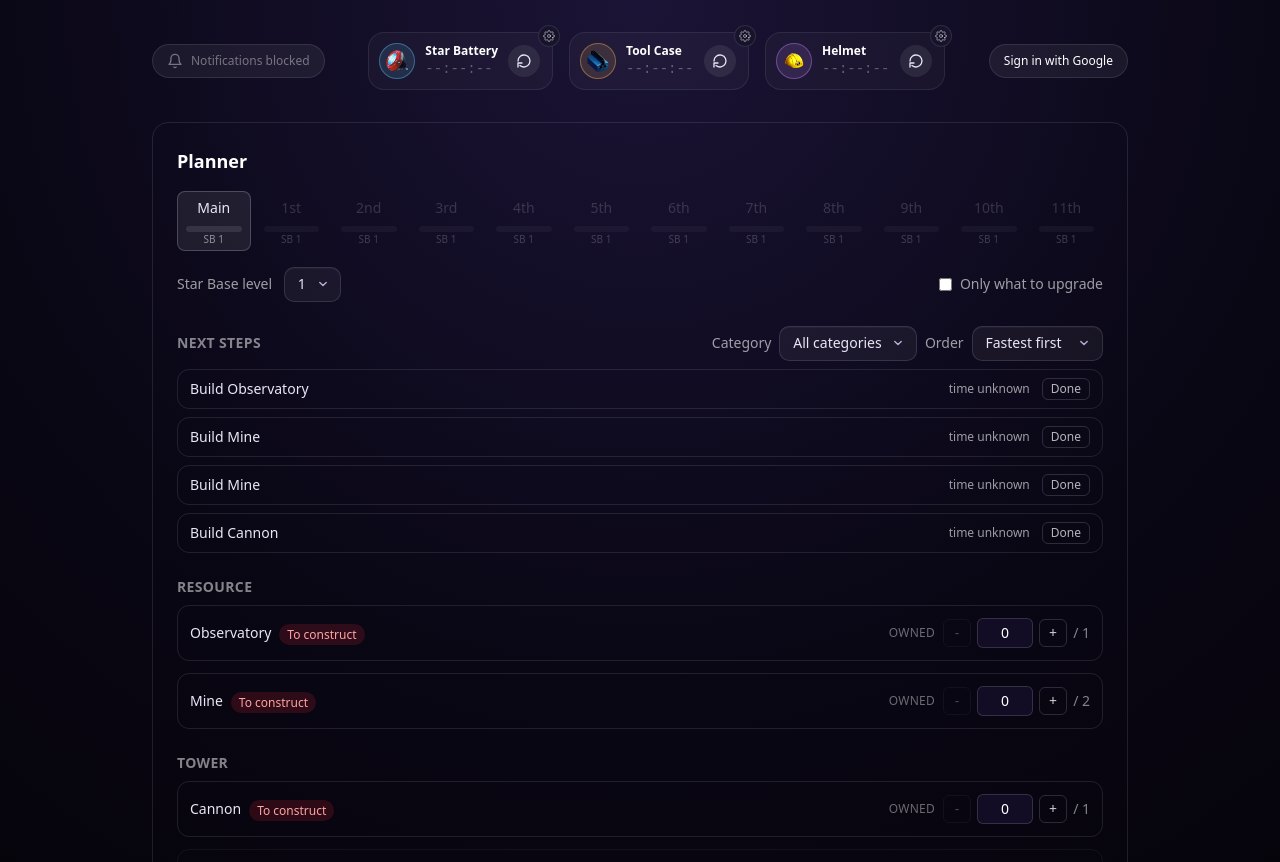
App › Planner › Observatory › unlocks a Colony as soon as the Observatory level is raised in the Planner
expect the tab with aria-label "Colony 1" is disabled: met, box [264,194,319,222]
Click the button named "Increase Observatory owned".
click(1053, 633)  # box [1039,619,1067,647]
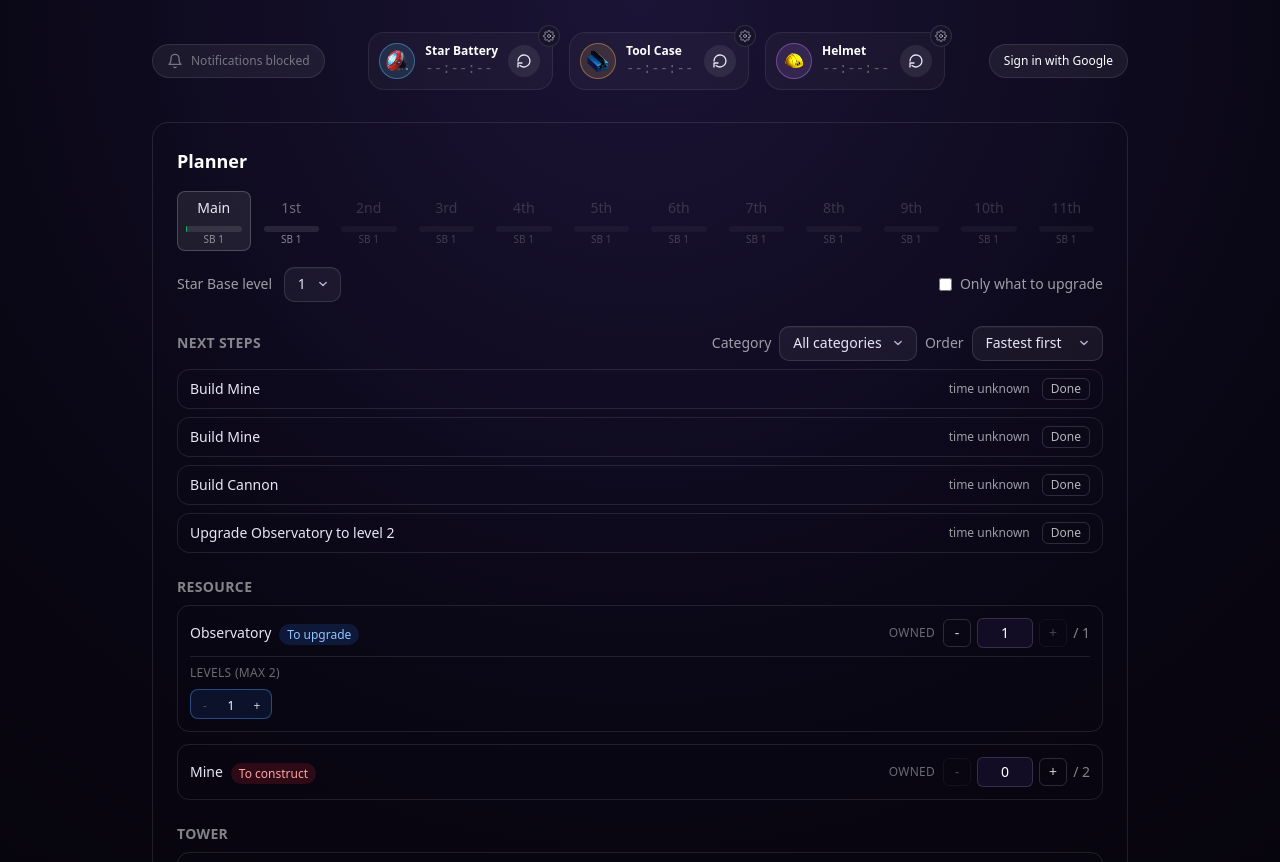
expect the tab with aria-label "Colony 2" is disabled: met, box [341,194,396,222]
expect the tab with aria-label "Colony 1" is enabled: met, box [264,194,319,222]
Click the button named "Increase Observatory 1 level".
click(257, 706)  # box [247,696,267,716]
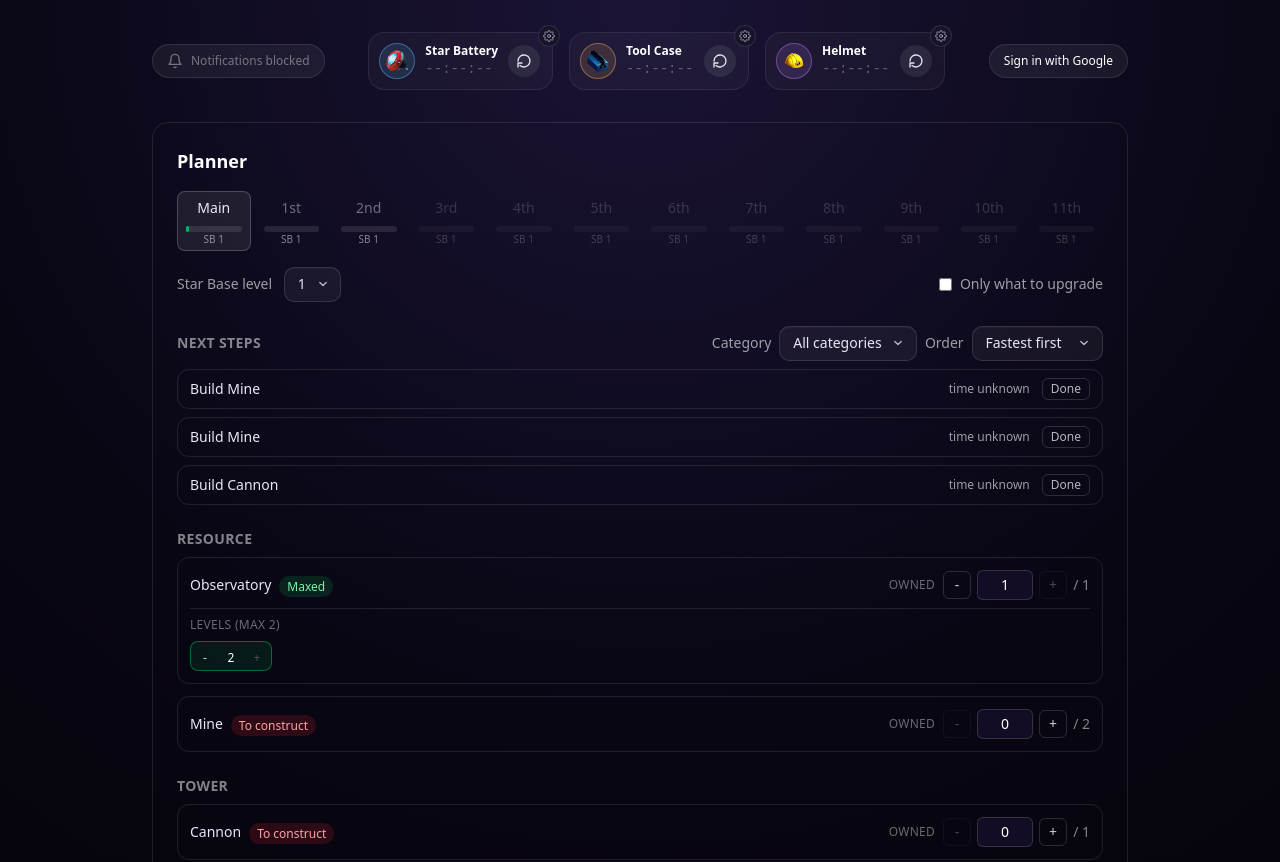
expect the tab with aria-label "Colony 3" is disabled: met, box [418,194,474,222]
expect the tab with aria-label "Colony 2" is enabled: met, box [341,194,396,222]
